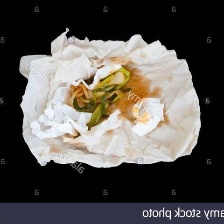tissue: (12, 22, 208, 174)
